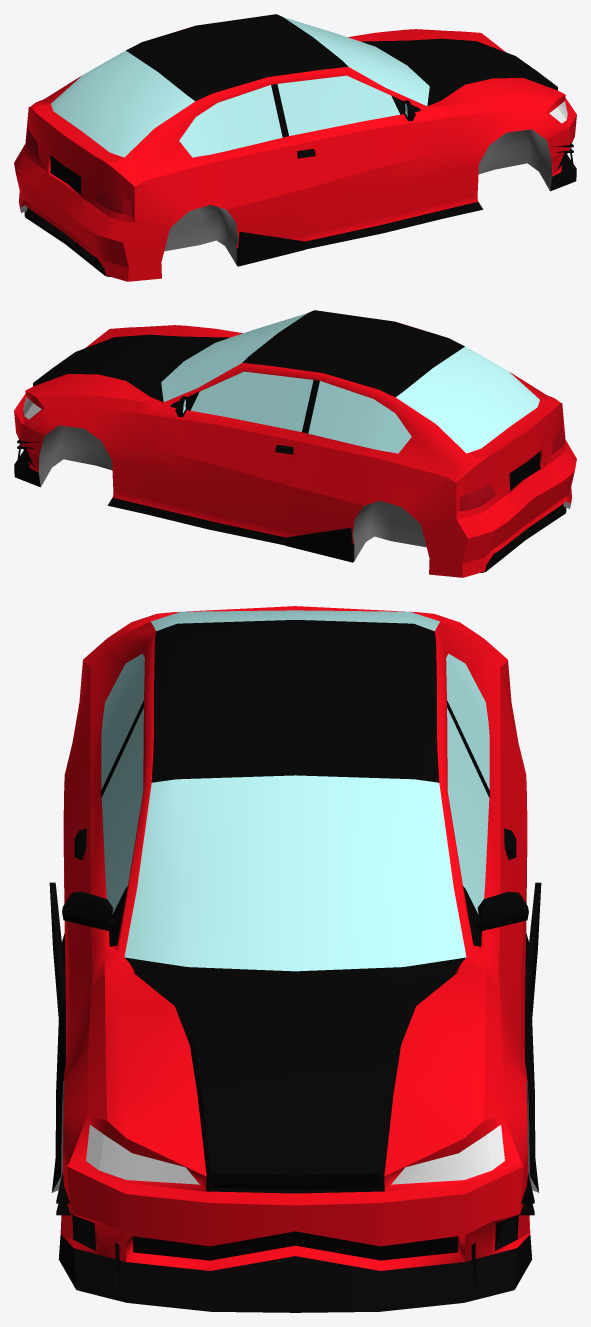
File: base_sedan.glb
3 views of the same model, one above another, from view 1: azimuth 30°, elevation 25°; view 2: azimuth 150°, elevation 25°; view 3: azimuth 270°, elevation 25° (orthographic). The views are drawn at different scales.
Parts seen in each view (by area): view 1: base, windows, detail2, under, detail, back_lights; view 2: base, windows, detail2, under, detail, back_lights; view 3: detail2, base, windows, detail, front_lights.
Part boxes in pixels (x1=…): base: x1=14, y1=25, x2=576, y2=281; windows: x1=51, y1=17, x2=429, y2=157; detail2: x1=126, y1=14, x2=576, y2=266; under: x1=21, y1=129, x2=552, y2=264; detail: x1=24, y1=44, x2=573, y2=276; back_lights: x1=26, y1=128, x2=131, y2=215; base: x1=14, y1=321, x2=576, y2=577; windows: x1=161, y1=313, x2=539, y2=453; detail2: x1=14, y1=310, x2=464, y2=562; under: x1=38, y1=425, x2=569, y2=560; detail: x1=17, y1=340, x2=566, y2=572; back_lights: x1=459, y1=424, x2=564, y2=511; detail2: x1=49, y1=620, x2=541, y2=1312; base: x1=60, y1=606, x2=530, y2=1270; windows: x1=101, y1=610, x2=489, y2=971; detail: x1=62, y1=700, x2=528, y2=1290; front_lights: x1=86, y1=1125, x2=504, y2=1184.
Bounding box in the file's own units: 4.34 × 1.39 × 1.88.
